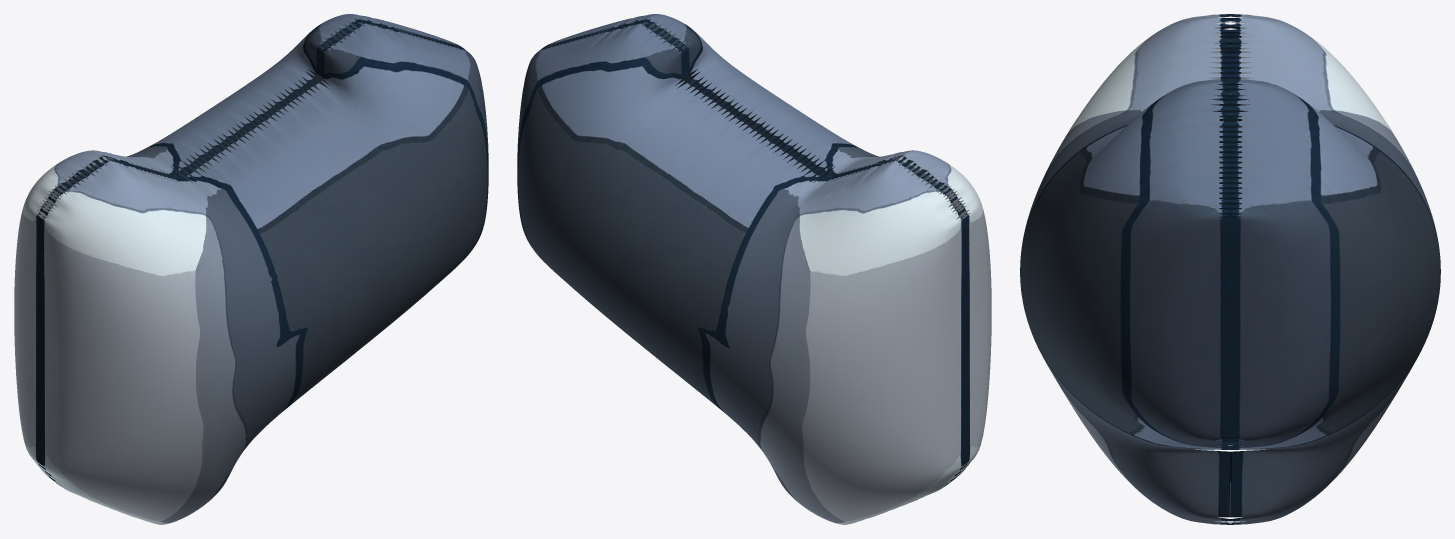
Rendered from rim_buttress.glb.
The picture shows the model from 3 angles, left to right: view 1: azimuth 30°, elevation 25°; view 2: azimuth 150°, elevation 25°; view 3: azimuth 270°, elevation 25°; orthographic projection. The views are drawn at different scales.
Parts seen in each view (by area): view 1: rim_buttress; view 2: rim_buttress; view 3: rim_buttress.
Part boxes in pixels (x1,y1,x2,y2): rim_buttress: [14, 14, 488, 524]; rim_buttress: [517, 14, 991, 524]; rim_buttress: [1020, 14, 1440, 524].
Bounding box in the file's own units: 0.989 × 0.9893 × 0.6535.
Materials: 1 (1 with a texture image).
